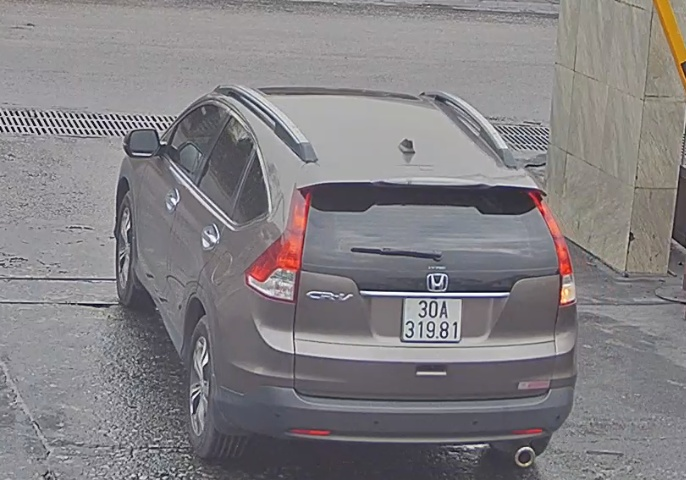vehicle plate: (396, 291, 461, 345)
